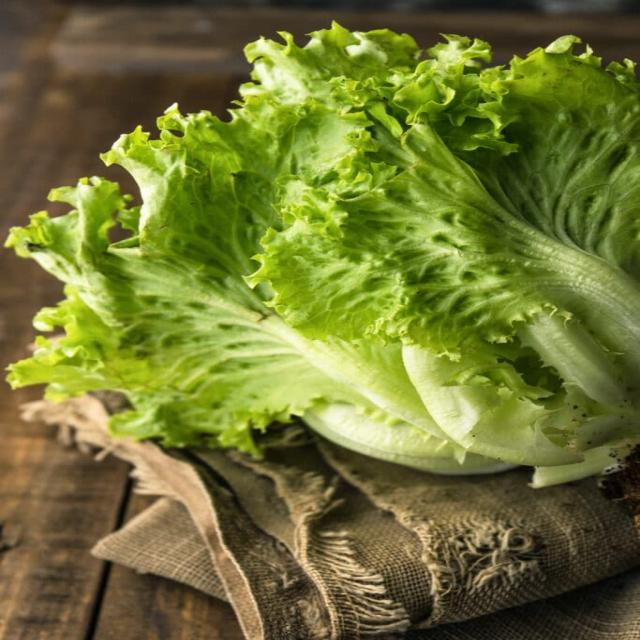lettuce: (9, 25, 639, 485)
